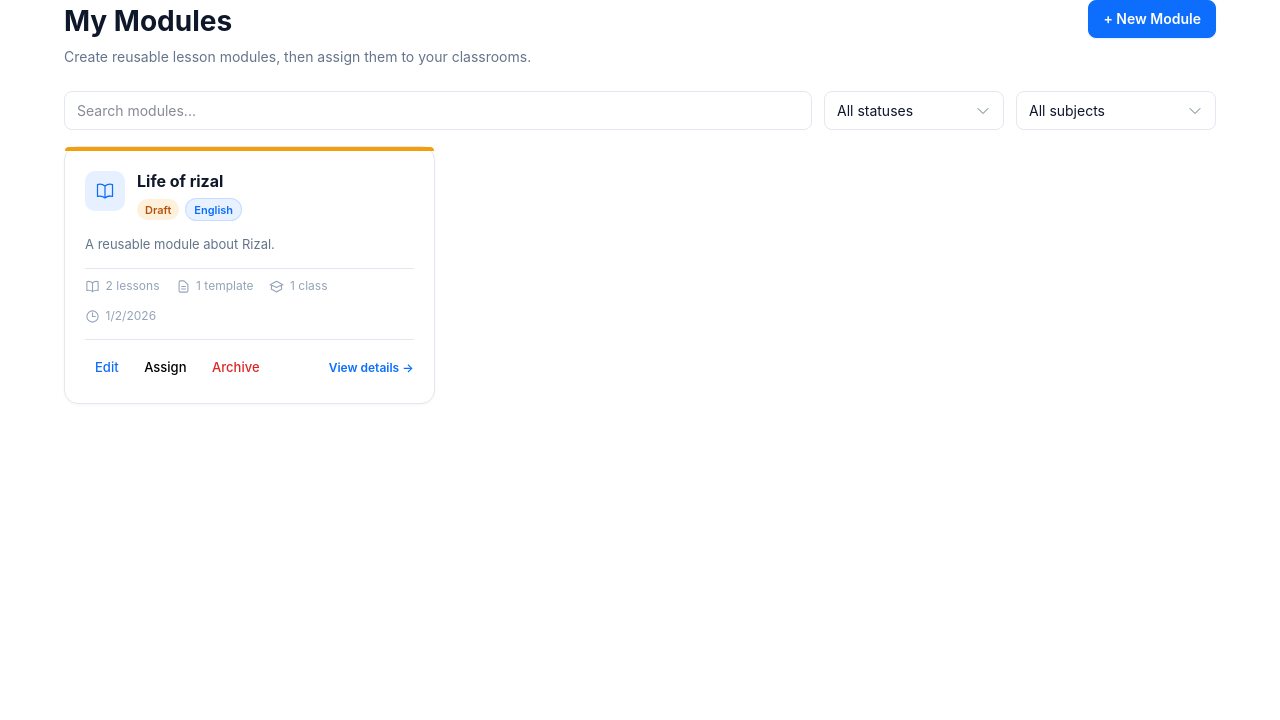
Test: MyModulesPage list › validates required module fields before creating
Expected: the heading "Life of rizal" is shown, x1=137 y1=171 x2=223 y2=191
Click the button "+ New Module": coordinates (1152, 19) x1=1088 y1=0 x2=1216 y2=38
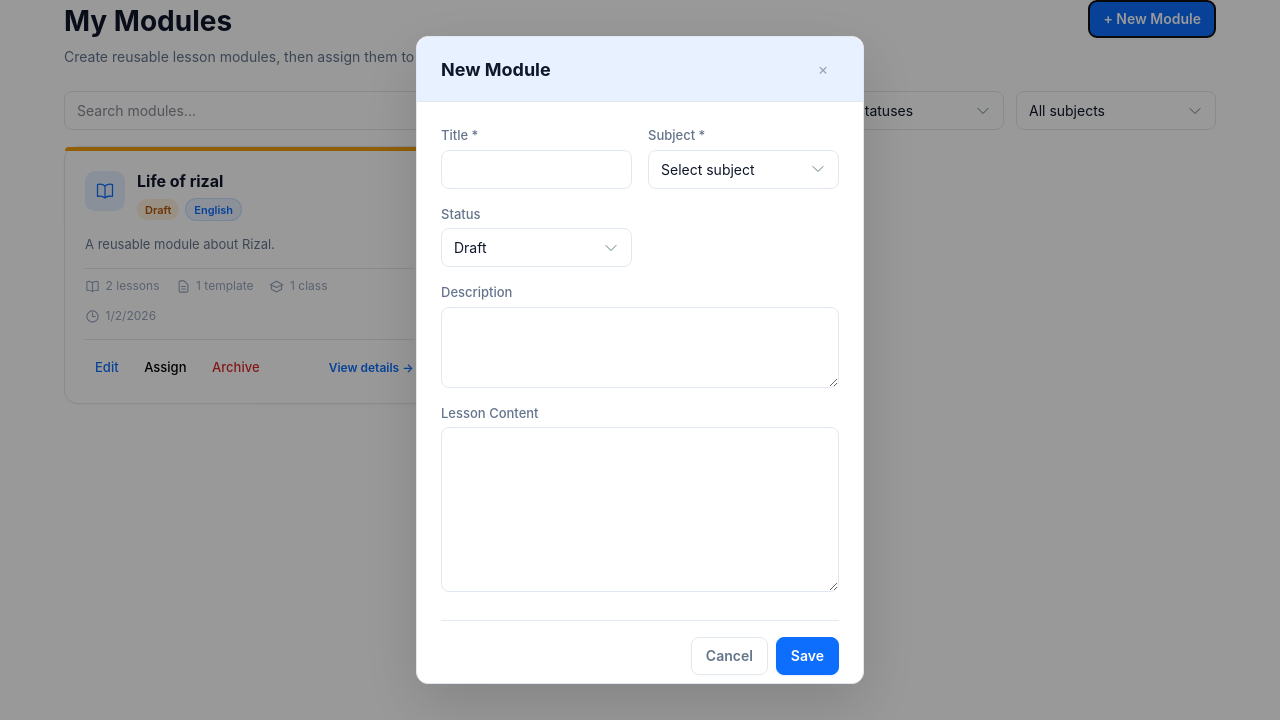
Submit the form, box x1=417 y1=102 x2=863 y2=683
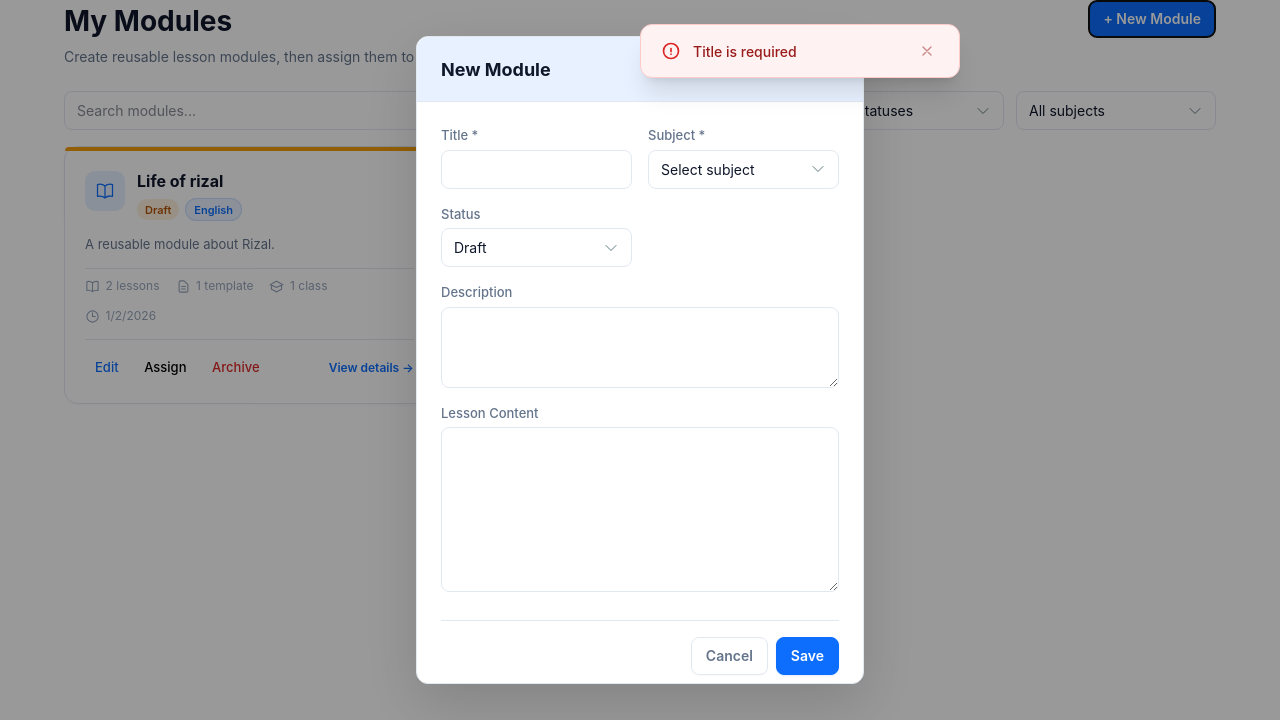
Now the text "Title is required" is shown, box x1=693 y1=42 x2=797 y2=60
In the field: coordinates (536, 169) x1=441 y1=150 x2=632 y2=188, type "New Module"
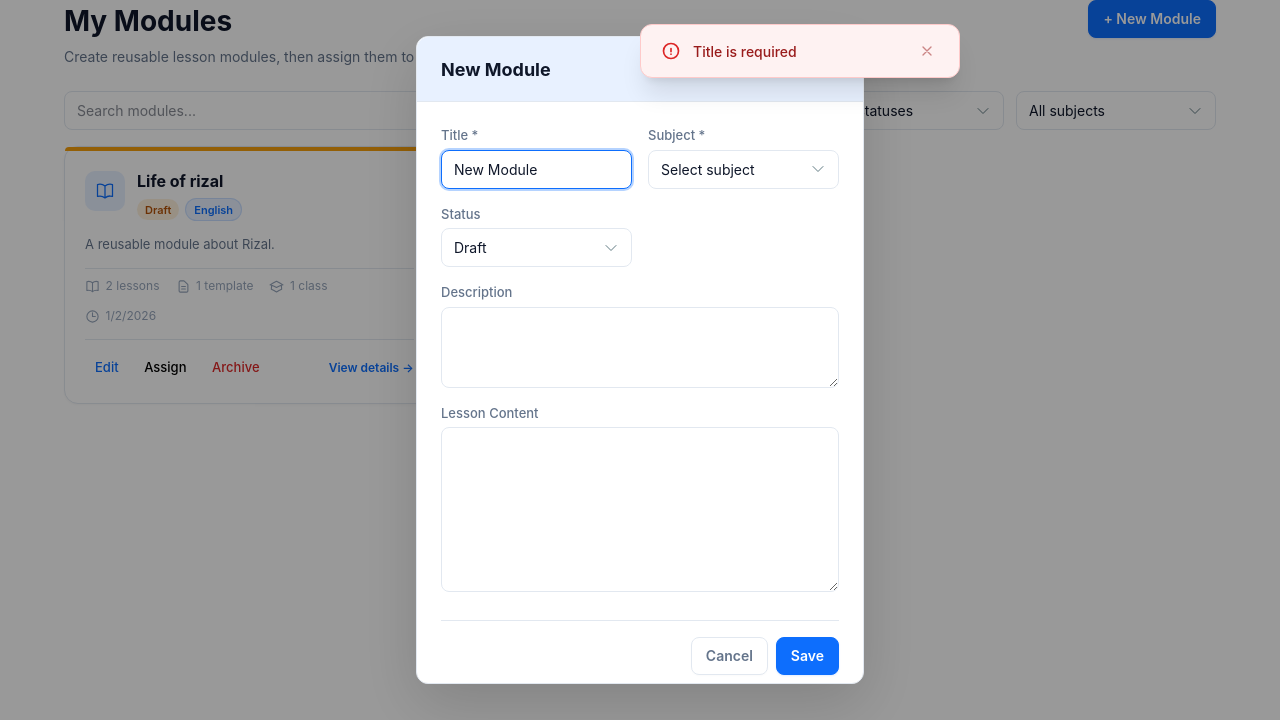
Submit the form, box x1=417 y1=102 x2=863 y2=683
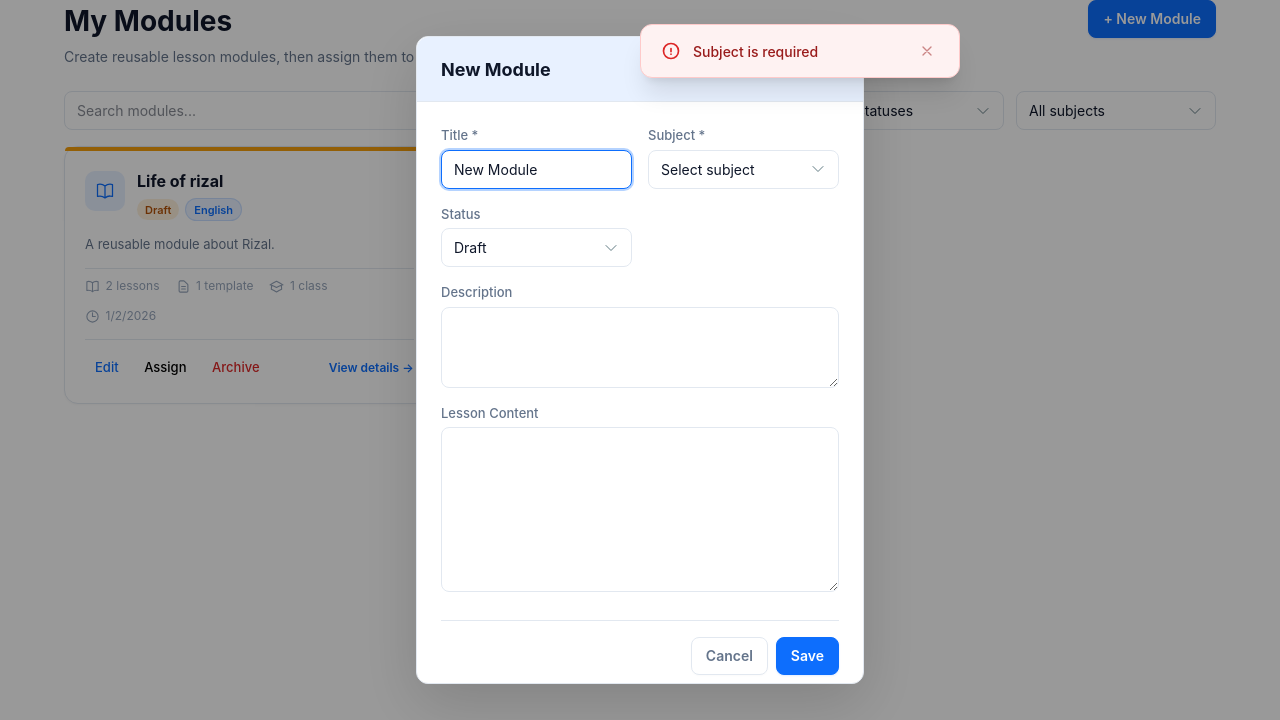
Now the text "Subject is required" is shown, box x1=693 y1=42 x2=818 y2=60
